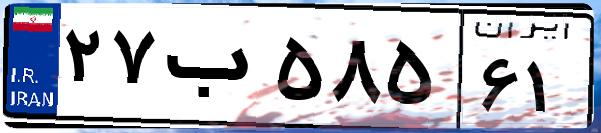1: (525, 38, 570, 115)
2: (57, 26, 110, 100)
5: (270, 28, 330, 110), (385, 28, 445, 110)
6: (475, 38, 525, 113)
7: (110, 28, 158, 98)
8: (330, 28, 385, 110)
ب: (158, 20, 270, 120)
